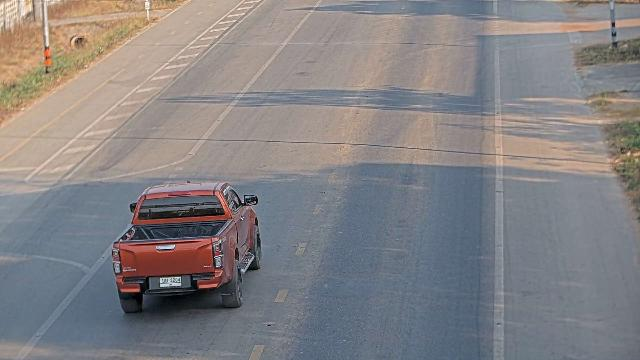pickup-truck: (110, 180, 262, 313)
